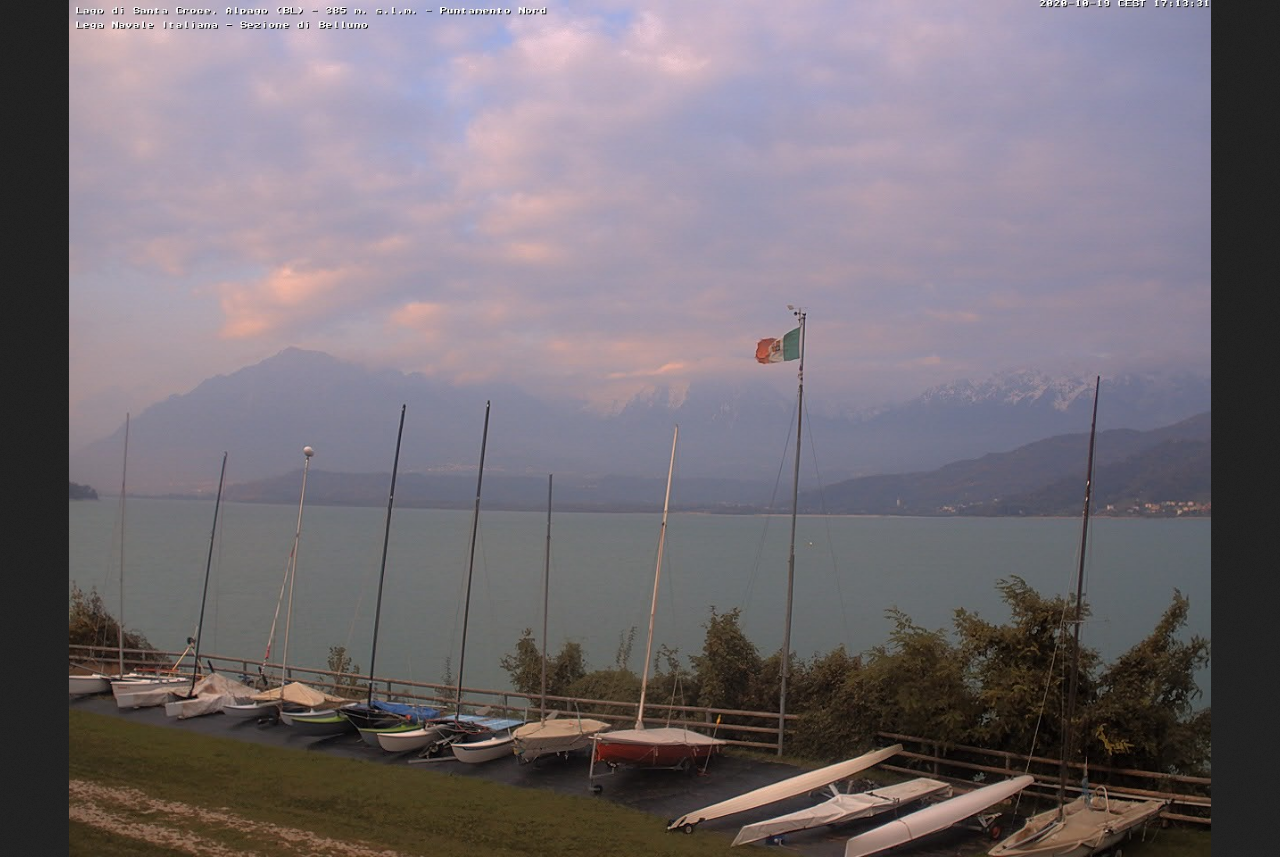yes: (752, 327, 801, 364)
